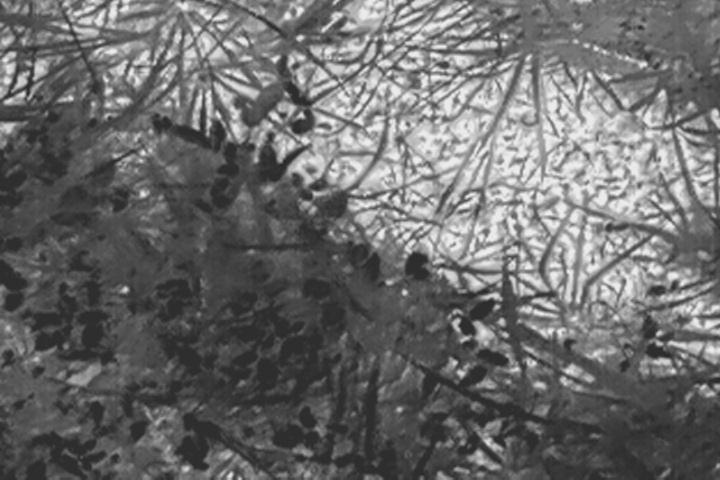landmine: (336, 20, 616, 234)
